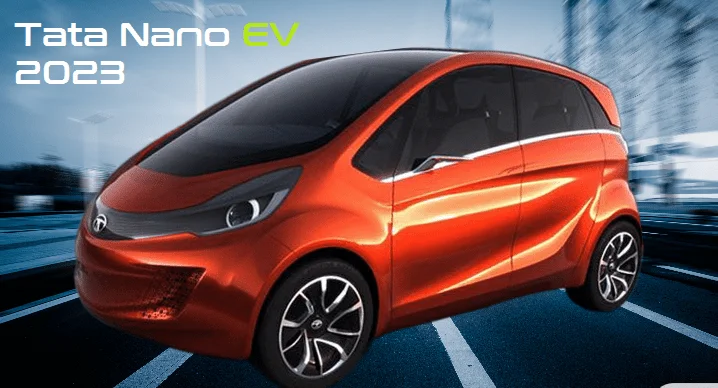Nano: (70, 48, 643, 386)
